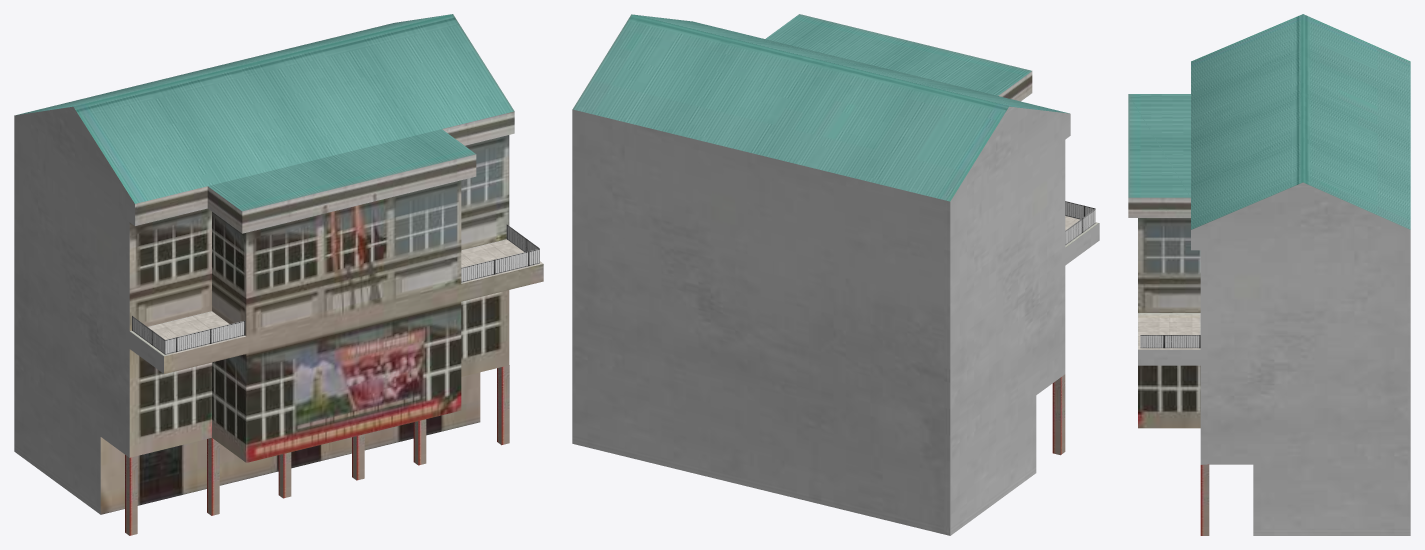
3 views of the same model, side by side, from view 1: azimuth 30°, elevation 25°; view 2: azimuth 150°, elevation 25°; view 3: azimuth 270°, elevation 25° (orthographic). The views are drawn at different scales.
Parts seen in each view (by area): view 1: HN1148___Quan_Uy_Dong_Da; view 2: HN1148___Quan_Uy_Dong_Da; view 3: HN1148___Quan_Uy_Dong_Da.
Part boxes in pixels (x1,y1,x2,y2): HN1148___Quan_Uy_Dong_Da: (14,14,543,535); HN1148___Quan_Uy_Dong_Da: (572,14,1099,535); HN1148___Quan_Uy_Dong_Da: (1128,14,1410,535).
Size of the model in its own units: 19.01 by 18.56 by 13.46.
1 material, 1 textured.
